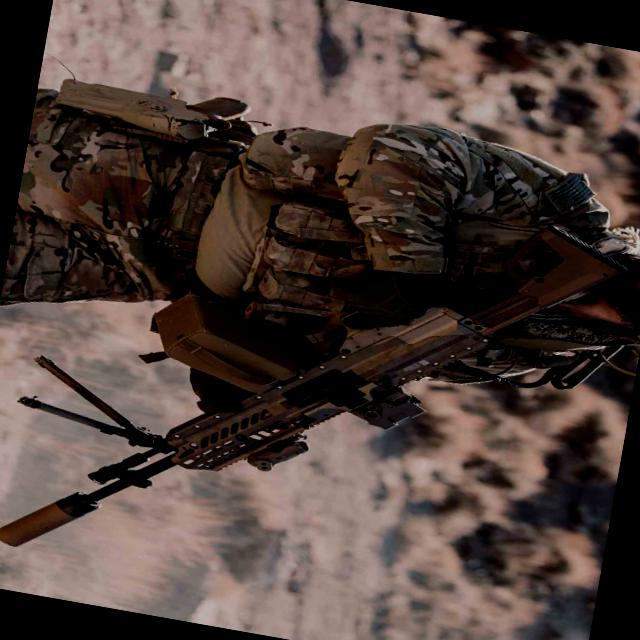long weapon: (0, 212, 640, 575)
